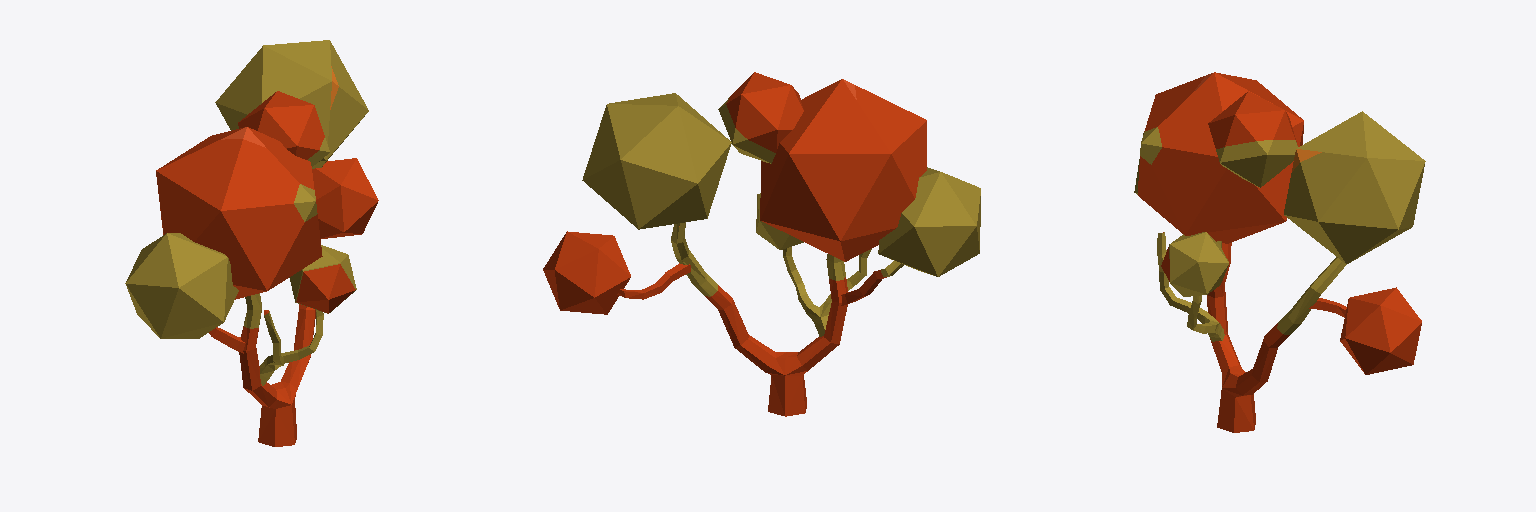
3 views of the same model, side by side, from view 1: azimuth 30°, elevation 25°; view 2: azimuth 150°, elevation 25°; view 3: azimuth 270°, elevation 25° (orthographic).
Parts seen in each view (by area): view 1: Tree_lp_11; view 2: Tree_lp_11; view 3: Tree_lp_11.
Boxes of the visible parts, x1,y1,x2,y2 form: Tree_lp_11: [125, 40, 378, 446]; Tree_lp_11: [543, 72, 980, 416]; Tree_lp_11: [1134, 72, 1425, 432].
Bounding box in the file's own units: 27.98 × 26.54 × 20.8.
2 materials, 1 textured.